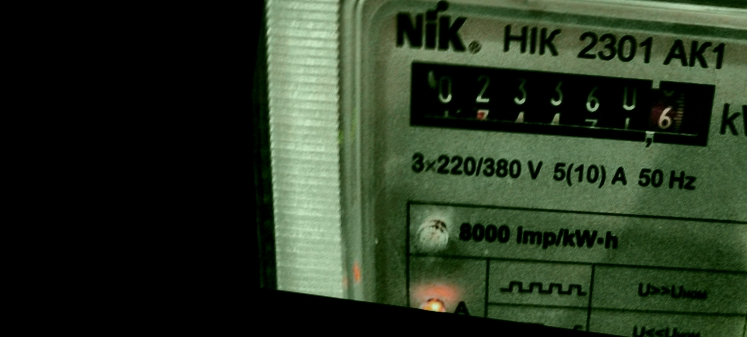0: (429, 70, 455, 107), (613, 81, 639, 114)
2: (469, 70, 493, 106)
3: (543, 73, 566, 109), (505, 74, 528, 107)
6: (577, 80, 603, 115), (650, 99, 676, 134)
screen: (384, 34, 731, 173)
